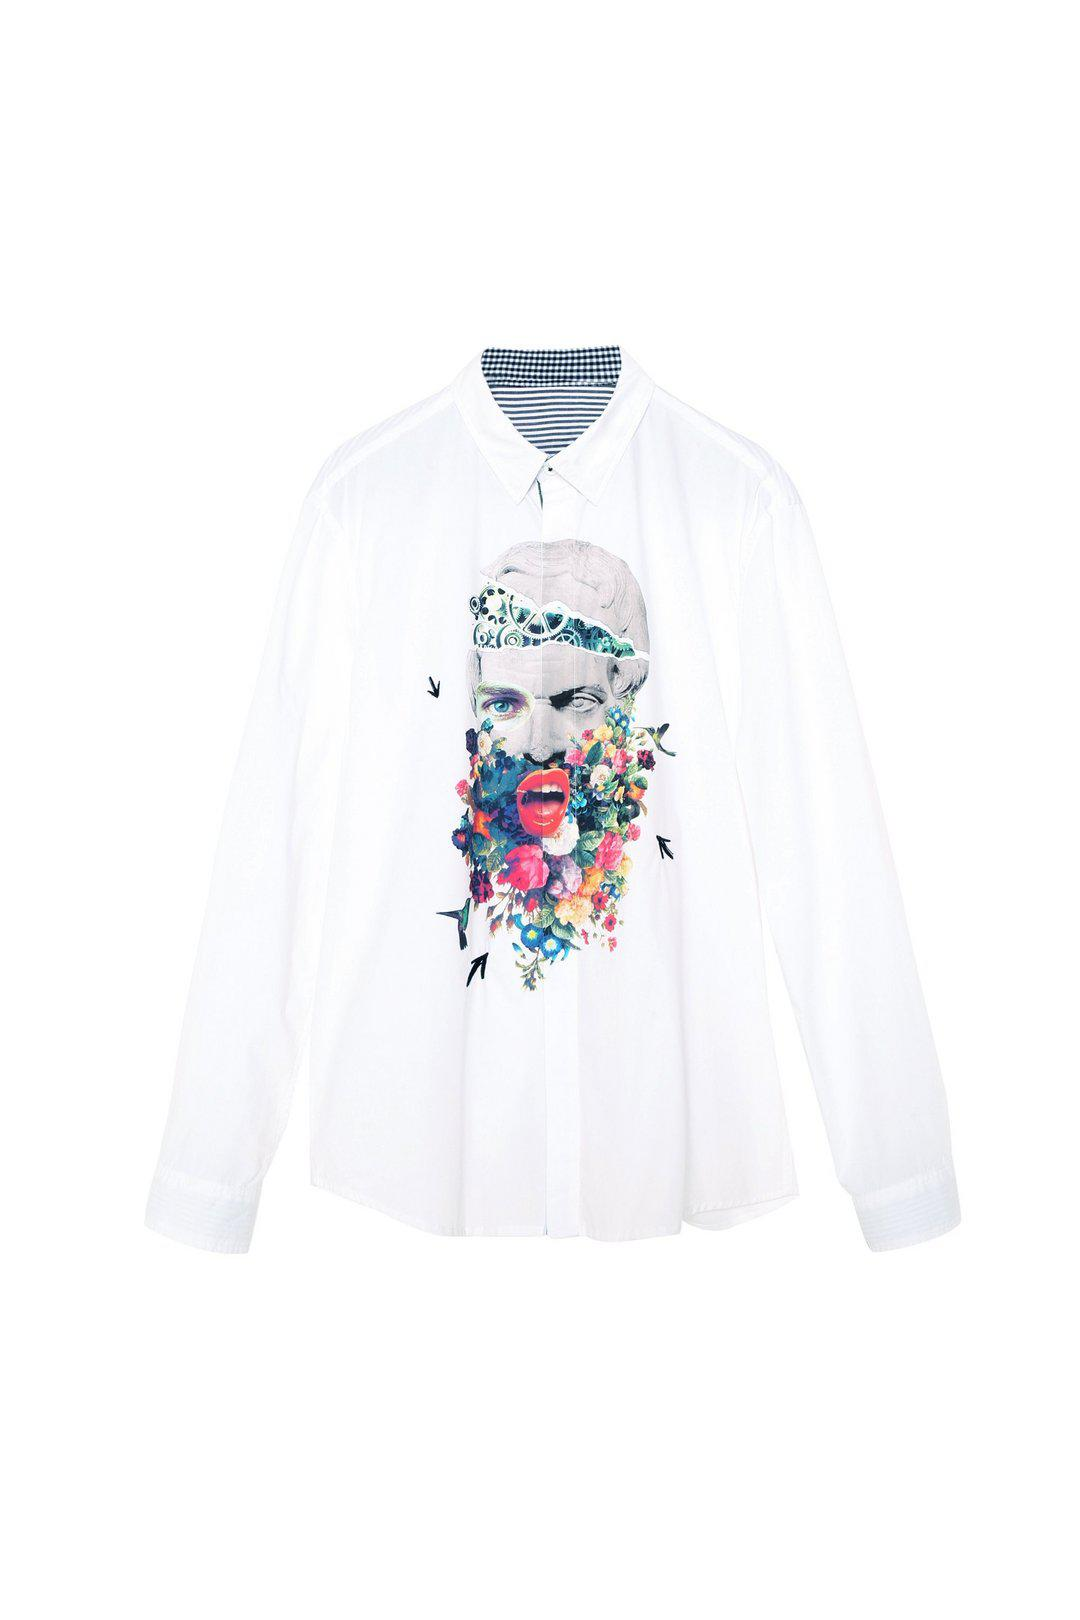teeshirt: (162, 345, 991, 1330)
